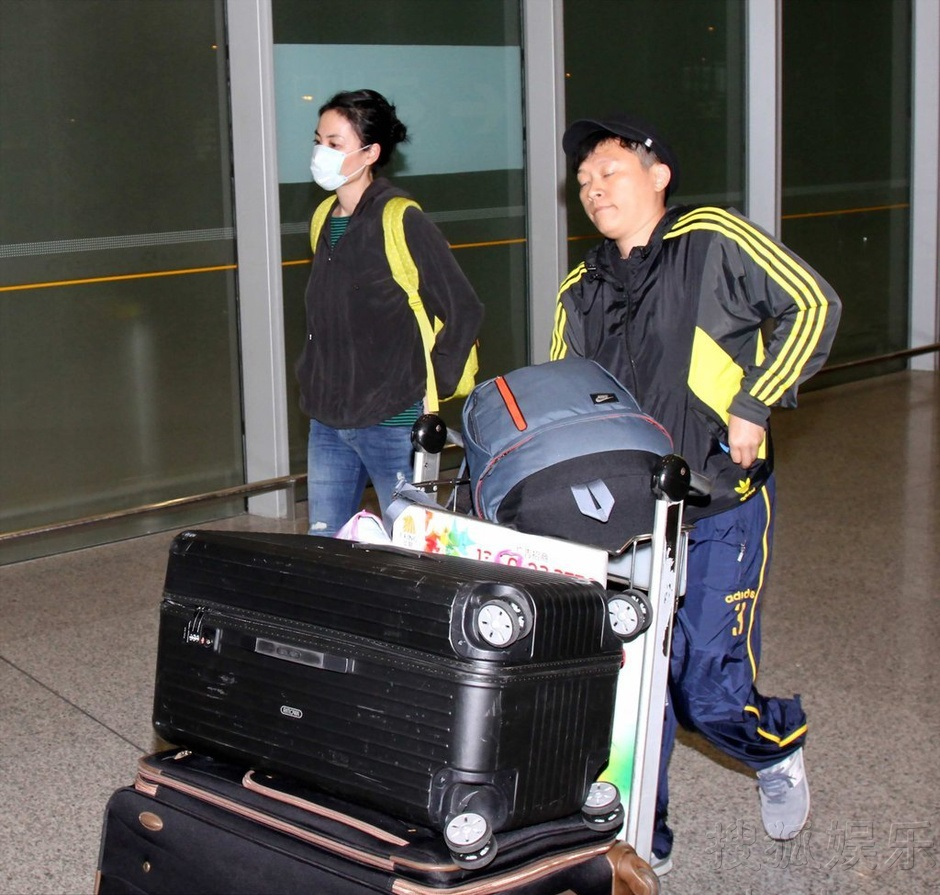face: (577, 138, 649, 237)
face_mask: (312, 113, 362, 183)
